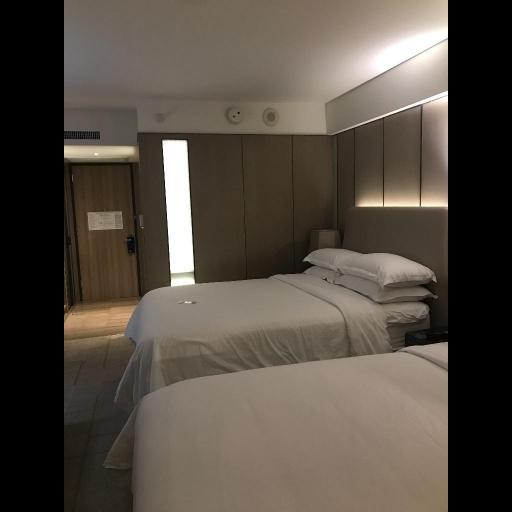clean_bed: (115, 208, 445, 408), (101, 342, 450, 511)
organised_pillow: (300, 245, 435, 303)
